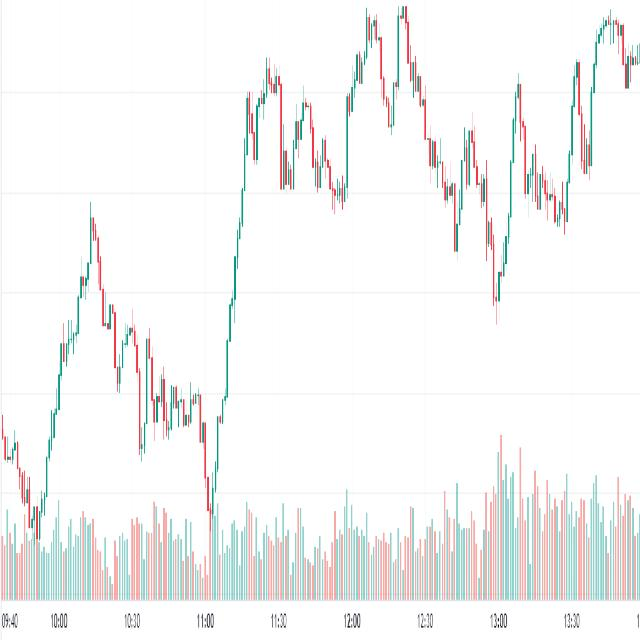Descending-Triangle: (239, 7, 363, 202)
Double-Top: (342, 0, 434, 169)
Triangle: (133, 282, 217, 495)
